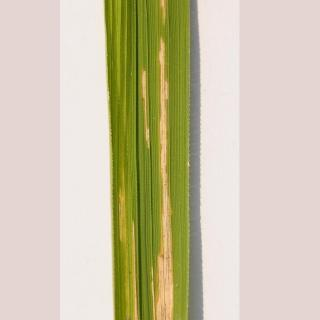Hawar-Daun: (138, 4, 179, 320), (111, 191, 145, 320)
